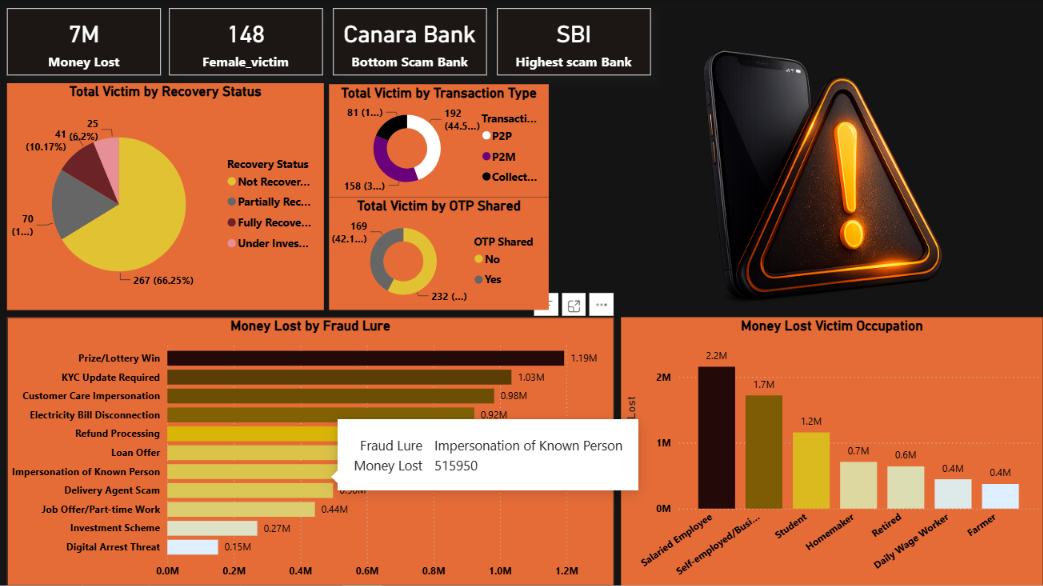

This screenshot's page, from the dashboard's own definition file:
{"tool":"powerbi","page":{"name":"Overview 2","canvas":[1280,720],"ordinal":2},"visuals":[{"type":"group","id":"g1","title":"Group 1","box":[8.6,11,790.2,82.2],"z":0},{"type":"card","fields":{"Values":["Calculated_Tbl.total_money"]},"box":[8.6,11,189,82.2],"z":0,"group":"g1"},{"type":"card","fields":{"Values":["Calculated_Tbl.Female_victim"]},"box":[207.4,11,189,82.2],"z":1000,"group":"g1"},{"type":"clusteredBarChart","fields":{"Y":["Calculated_Tbl.Money Lost"],"Category":["Fraud_tbl.Fraud Lure"]},"box":[8.6,390.2,744.8,330.1],"z":1000},{"type":"card","fields":{"Values":["Calculated_Tbl.Bottom Scam Bank"]},"box":[408.6,11,189,82.2],"z":2000,"group":"g1"},{"type":"pieChart","title":"Total Victim by Recovery Status","fields":{"Category":["Report_tbl.Recovery Status"],"Y":["Calculated_Tbl.Total_Victim"]},"box":[8.6,103.1,389,278.5],"z":3000},{"type":"donutChart","title":"Total Victim by OTP Shared","fields":{"Category":["Report_tbl.OTP Shared"],"Y":["Calculated_Tbl.Total_Victim"]},"box":[403.7,242.9,269.9,138.7],"z":4000},{"type":"donutChart","title":"Total Victim by Transaction Type","fields":{"Y":["Calculated_Tbl.Total_Victim"],"Category":["Transaction_tbl.Transaction Type"]},"box":[403.7,104.3,269.9,138.7],"z":5000},{"type":"card","fields":{"Values":["Calculated_Tbl.Highest scam Bank"]},"box":[610.2,11.2,189,82.1],"z":6000,"group":"g1"},{"type":"clusteredColumnChart","title":"Money Lost Victim Occupation","fields":{"Category":["Victim_tbl.Victim Occupation"],"Y":["Calculated_Tbl.Money Lost"]},"box":[762,390.2,517.8,330.1],"z":6000},{"type":"image","box":[689.6,0,590.2,460.1],"z":7000}]}

Visuals, with their boxes in screenshot pixels (x1, y1, x2, y2), scaled from the page's 1280x720 canvas onto the 1043x586 screenshot:
"Group 1" group: [7,9,651,76]
card - Calculated_Tbl.total_money: [7,9,161,76]
card - Calculated_Tbl.Female_victim: [169,9,323,76]
clusteredBarChart - Calculated_Tbl.Money Lost x Fraud_tbl.Fraud Lure: [7,318,614,585]
card - Calculated_Tbl.Bottom Scam Bank: [333,9,487,76]
"Total Victim by Recovery Status" pieChart: [7,84,324,311]
"Total Victim by OTP Shared" donutChart: [329,198,549,311]
"Total Victim by Transaction Type" donutChart: [329,85,549,198]
card - Calculated_Tbl.Highest scam Bank: [497,9,651,76]
"Money Lost Victim Occupation" clusteredColumnChart: [621,318,1042,585]
image: [562,0,1042,374]
